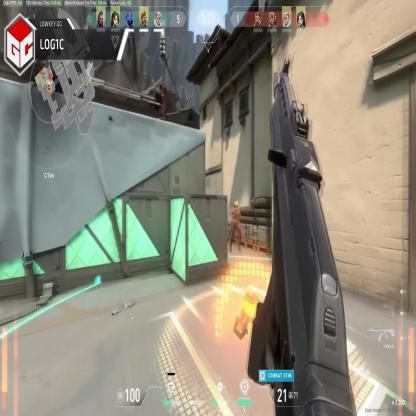enemy: (228, 200, 243, 254)
enemy_head: (233, 200, 239, 212)
